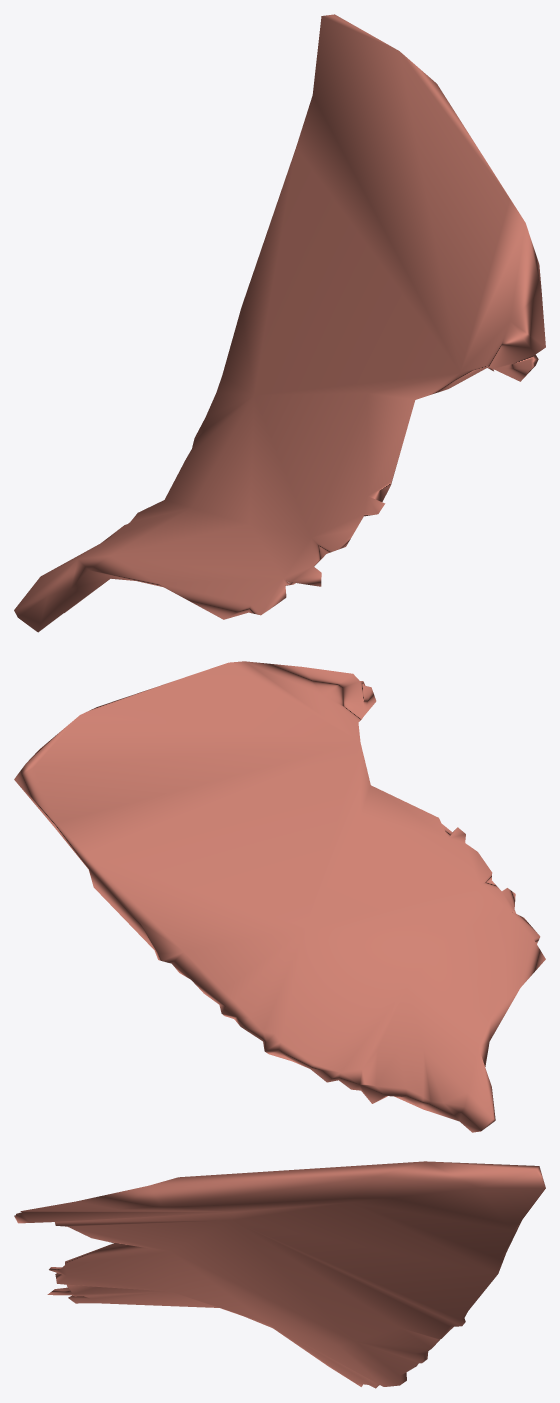
The picture shows the model from 3 angles, top to bottom: view 1: azimuth 30°, elevation 25°; view 2: azimuth 150°, elevation 25°; view 3: azimuth 270°, elevation 25°; orthographic projection. The views are drawn at different scales.
Visible parts, largest first — view 1: 左侧提口角肌; view 2: 左侧提口角肌; view 3: 左侧提口角肌.
Boxes of the visible parts, x1,y1,x2,y2 form: 左侧提口角肌: (14,14,545,632); 左侧提口角肌: (14,661,545,1132); 左侧提口角肌: (14,1161,545,1388).
Bounding box in the file's own units: 0.0251 × 0.023 × 0.0295.
